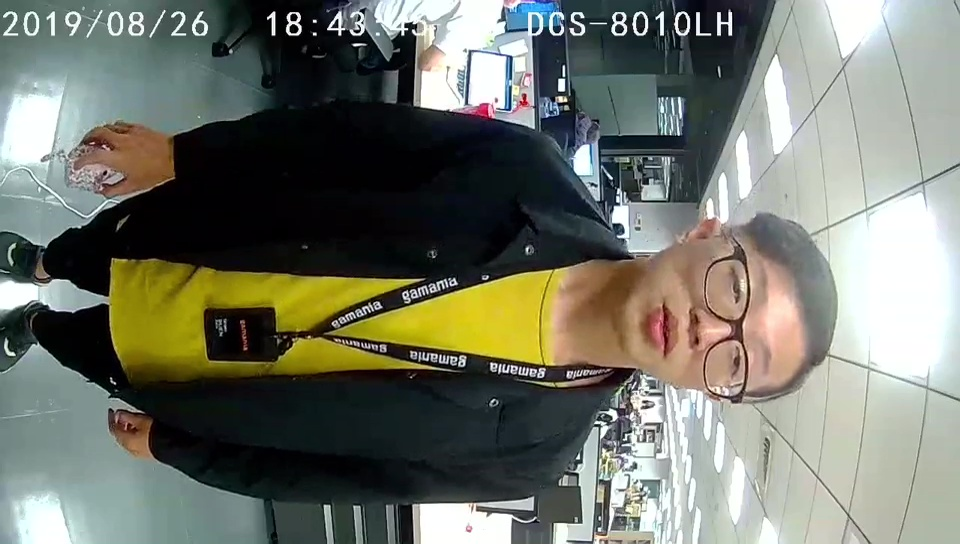pig: (64, 144, 119, 190)
